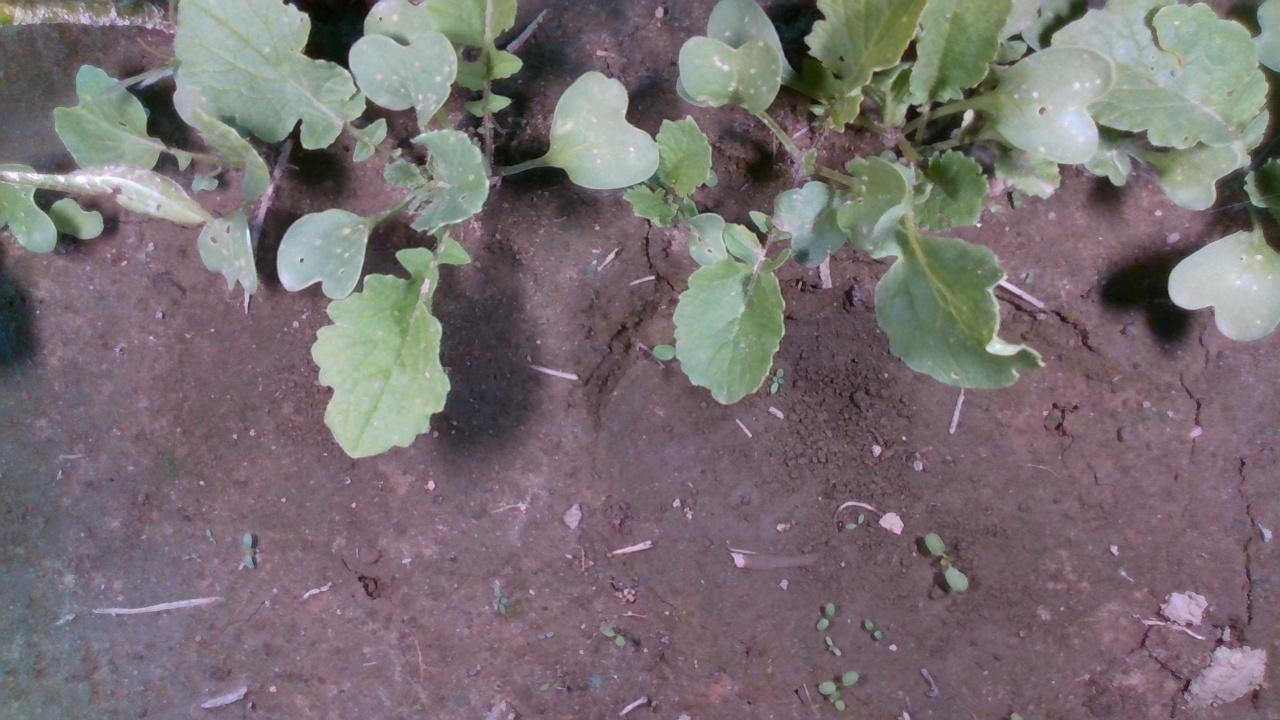weed: (924, 531, 968, 592), (596, 625, 625, 648), (239, 530, 254, 570), (814, 600, 834, 630), (489, 583, 507, 614), (822, 632, 840, 657), (862, 618, 882, 640), (843, 510, 863, 529)
